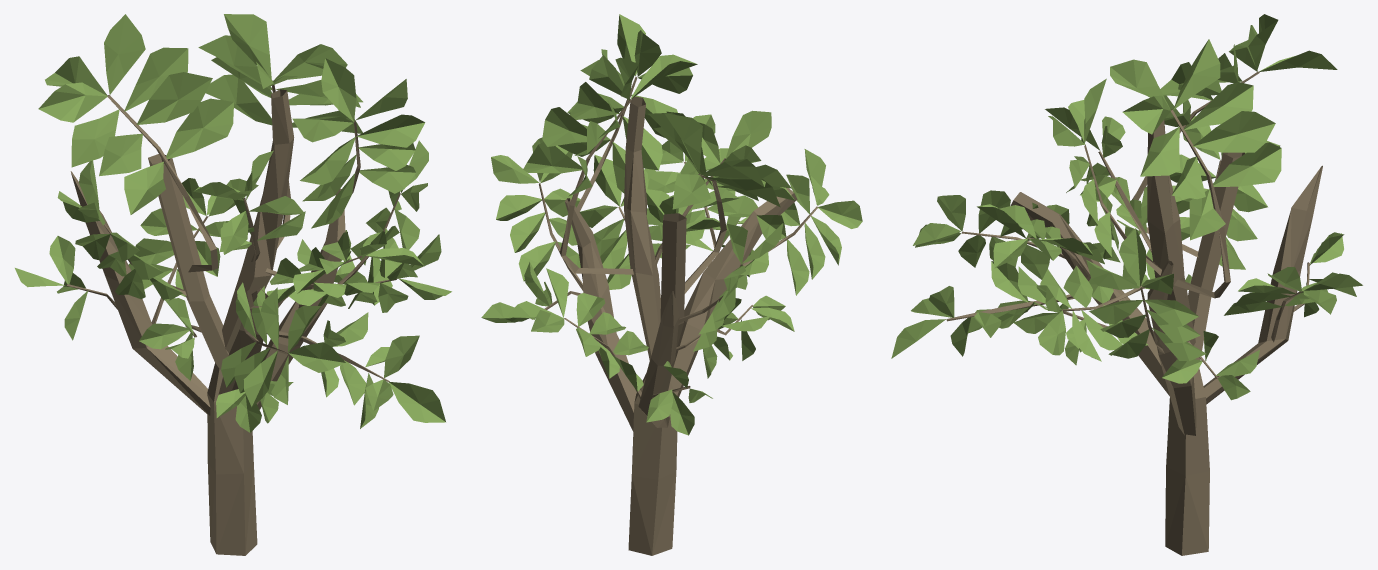
File: Peach_5_2.fbx
The picture shows the model from 3 angles, left to right: view 1: azimuth 30°, elevation 25°; view 2: azimuth 150°, elevation 25°; view 3: azimuth 270°, elevation 25°; orthographic projection. The views are drawn at different scales.
Parts seen in each view (by area): view 1: Peach_5_2; view 2: Peach_5_2; view 3: Peach_5_2.
Boxes of the visible parts, <box> form: Peach_5_2: <box>15,14,451,555</box>; Peach_5_2: <box>481,14,862,555</box>; Peach_5_2: <box>891,14,1362,555</box>.
Bounding box in the file's own units: 368 × 548 × 462.
